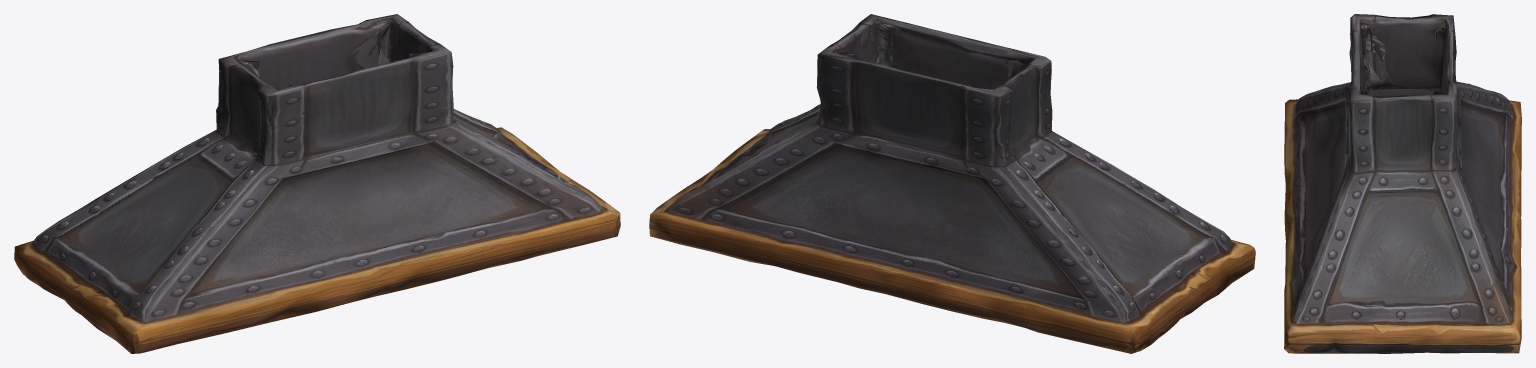
File: SM_Env_Hood.fbx
The picture shows the model from 3 angles, left to right: view 1: azimuth 30°, elevation 25°; view 2: azimuth 150°, elevation 25°; view 3: azimuth 270°, elevation 25°; orthographic projection. The views are drawn at different scales.
Visible parts, largest first — view 1: SM_Env_Hood; view 2: SM_Env_Hood; view 3: SM_Env_Hood.
Part boxes in pixels (left/top/right/bottom): SM_Env_Hood: left=14, top=14, right=620, bottom=353; SM_Env_Hood: left=649, top=14, right=1255, bottom=353; SM_Env_Hood: left=1284, top=14, right=1521, bottom=353.
Bounding box in the file's own units: 2.1 × 0.8 × 0.9.
